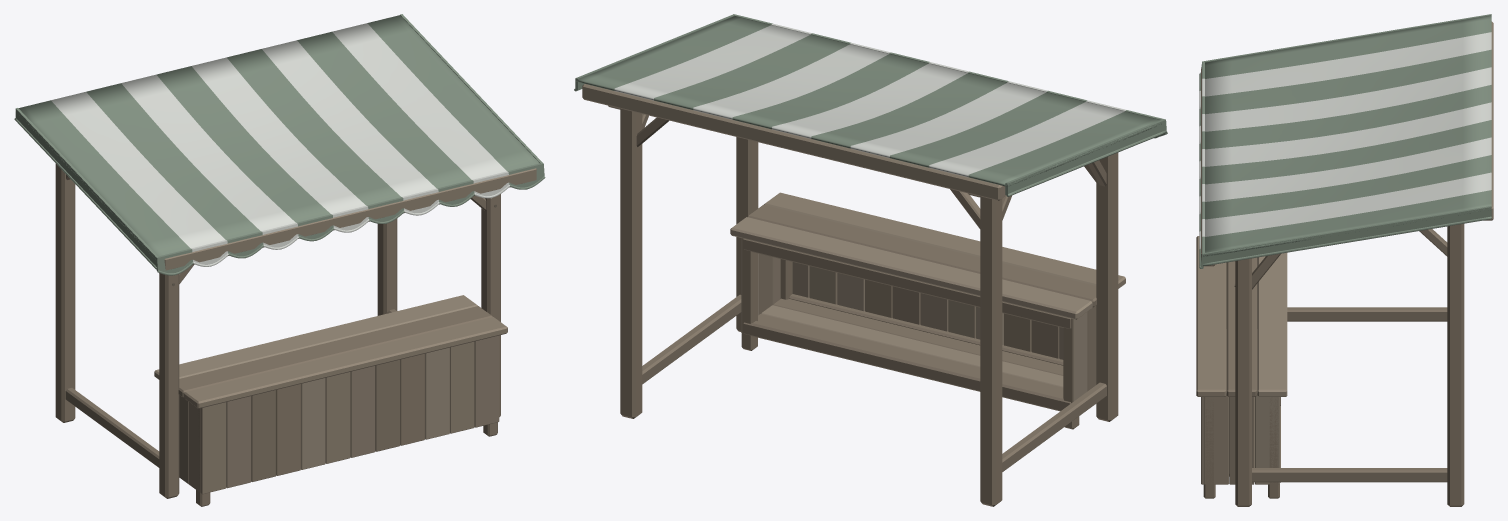
Rendered from market_stall-BAVQFHrq.glb.
The picture shows the model from 3 angles, left to right: view 1: azimuth 30°, elevation 25°; view 2: azimuth 150°, elevation 25°; view 3: azimuth 270°, elevation 25°; orthographic projection. The views are drawn at different scales.
Visible parts, largest first — view 1: Body; view 2: Body; view 3: Body.
Part boxes in pixels (x1,y1,x2,y2): Body: (14, 14, 545, 506); Body: (574, 14, 1167, 506); Body: (1196, 14, 1493, 506).
Bounding box in the file's own units: 2 × 1.51 × 1.29.
